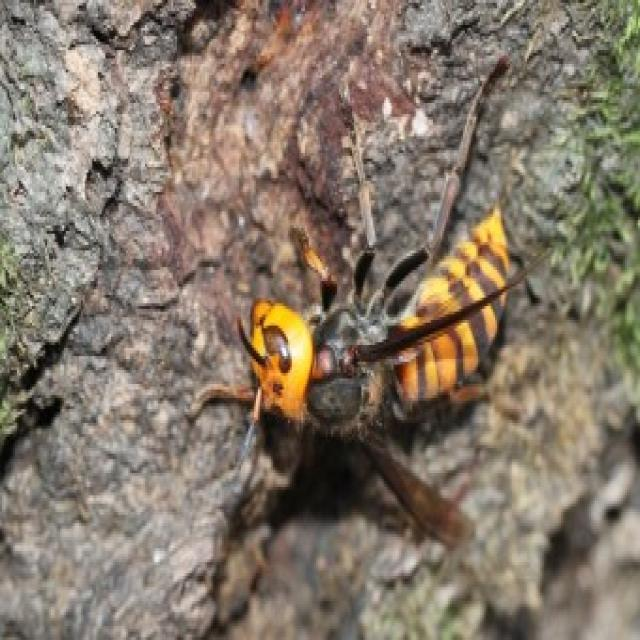Wasp: (230, 80, 518, 548)
